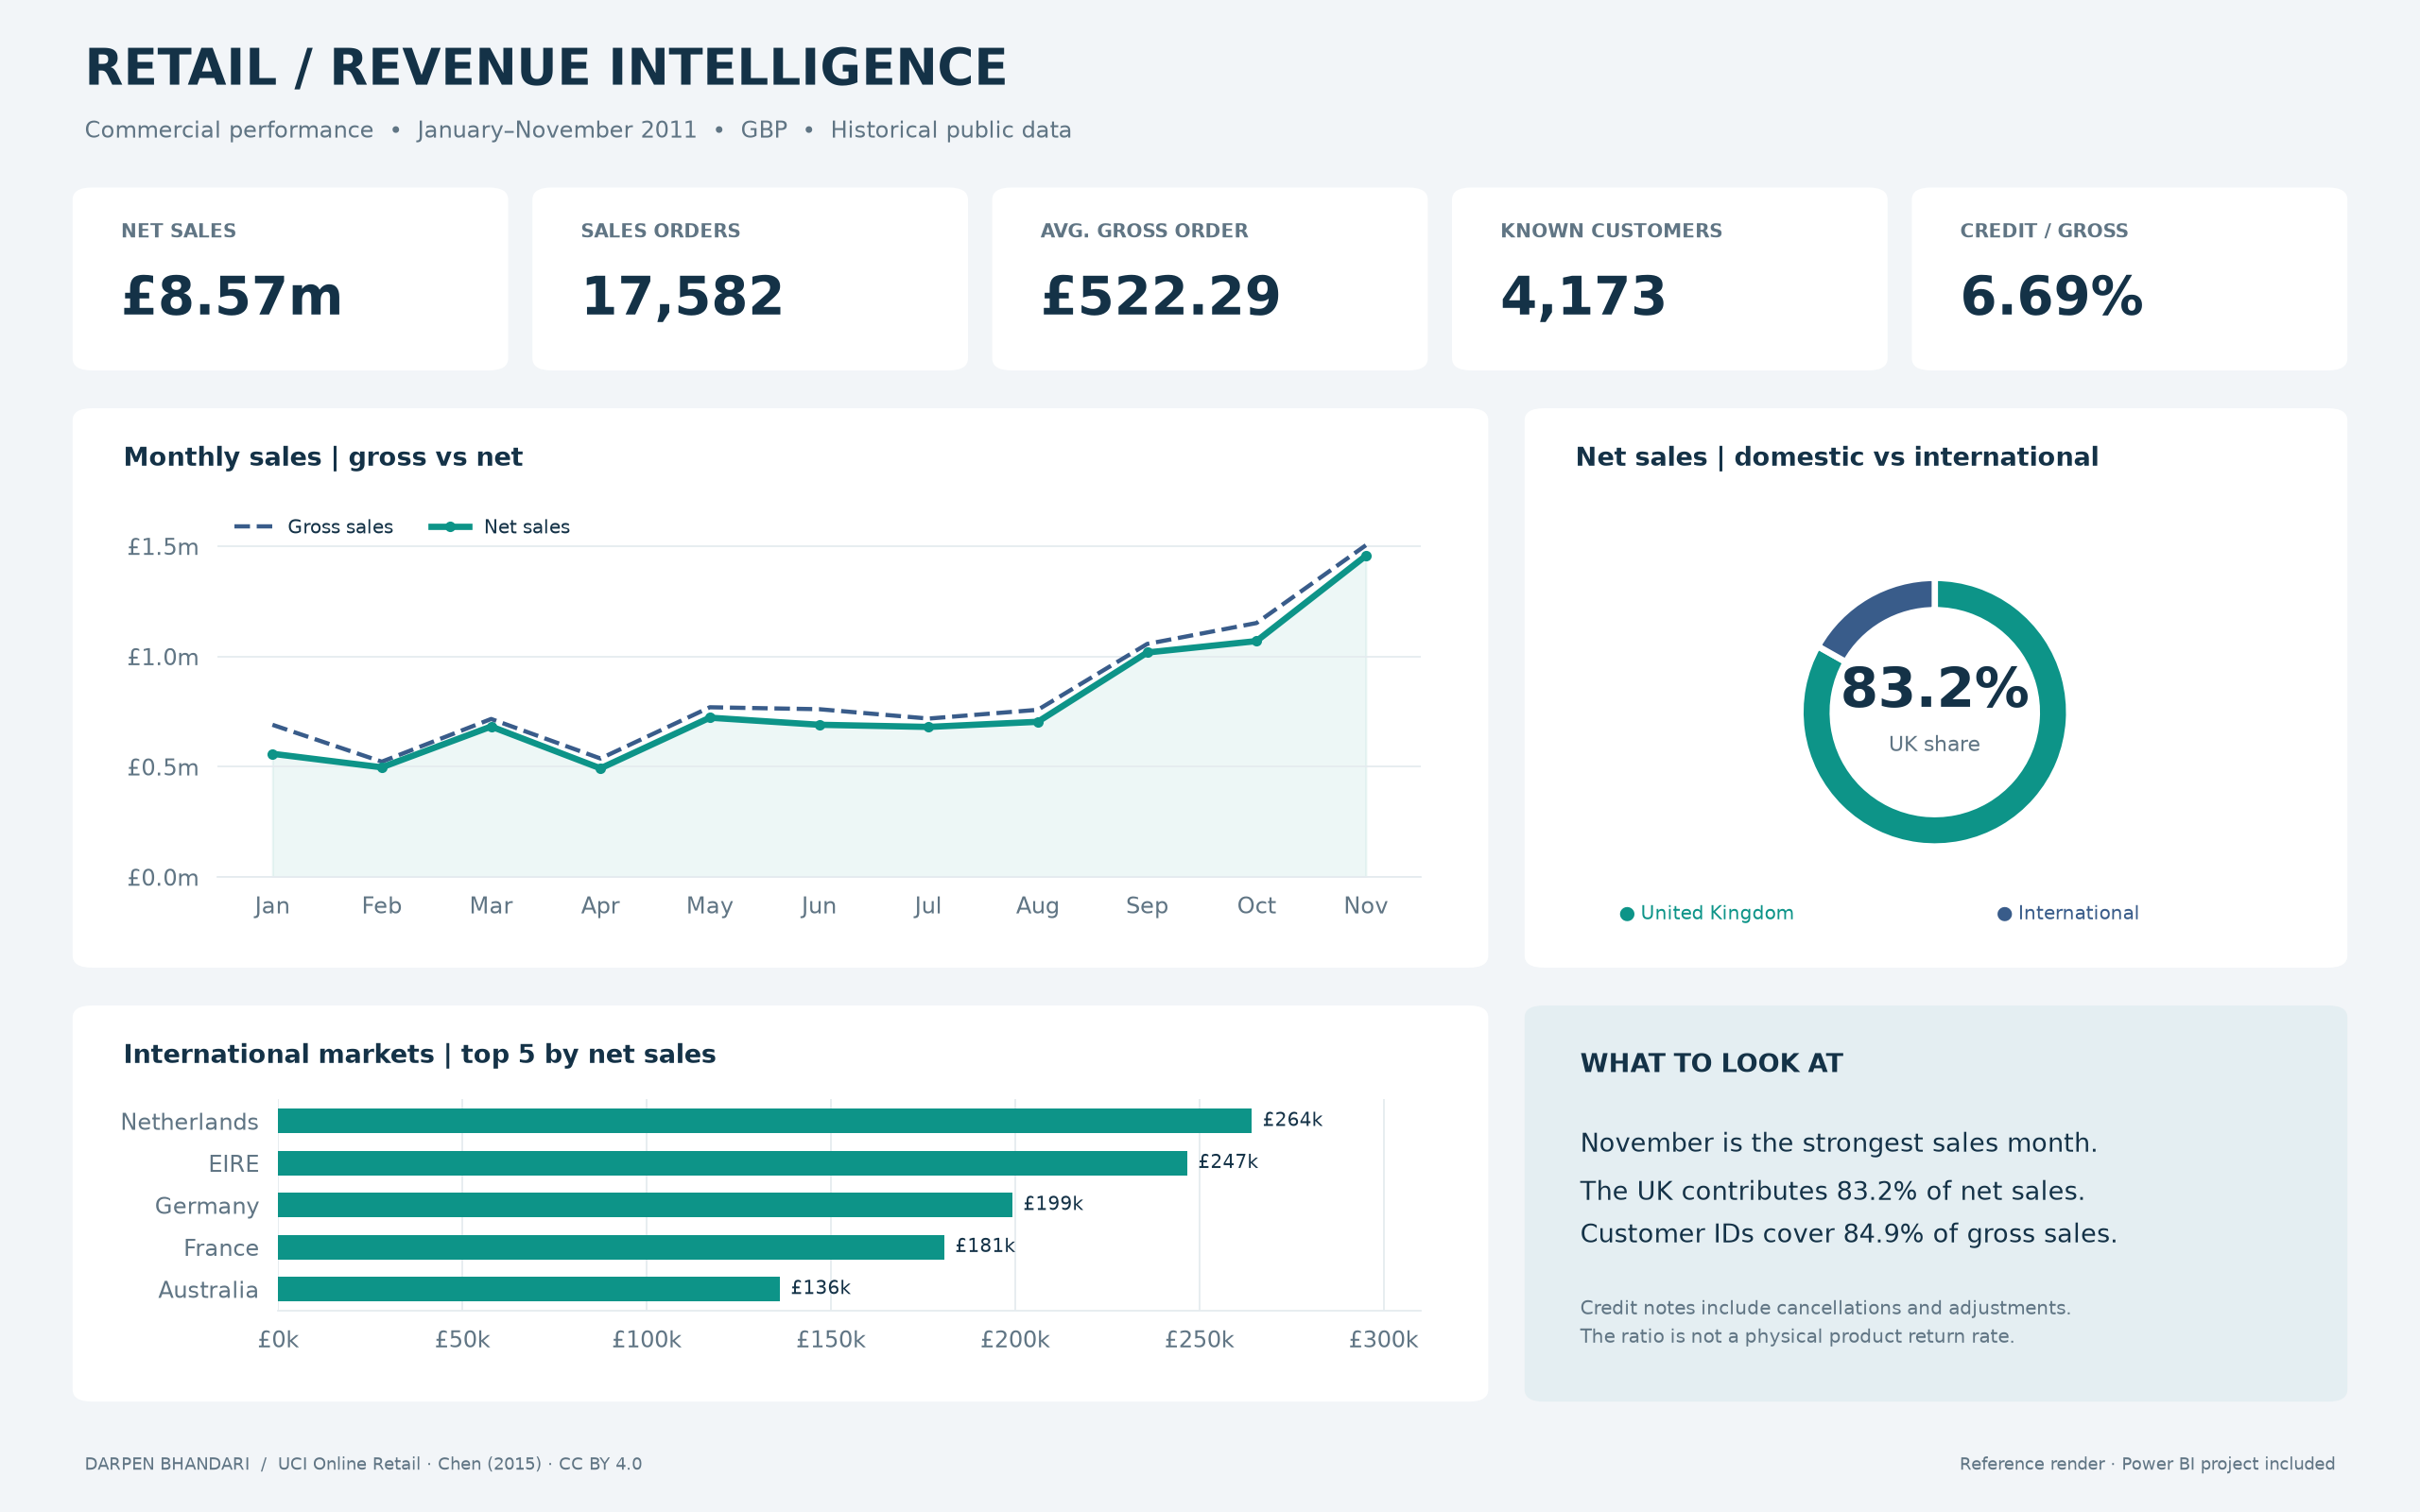

What the dashboard file says about the page in this screenshot:
{"tool":"powerbi","page":{"name":"01 · Revenue overview","canvas":[1440,900],"ordinal":0},"visuals":[{"type":"textbox","box":[32,22,1100,65],"z":1},{"type":"textbox","box":[32,70,1180,43],"z":2},{"type":"textbox","box":[32,850,1370,46],"z":3},{"type":"card","fields":{"Values":["FactSales.Net Sales Display"]},"box":[32,118,256,105],"z":7},{"type":"textbox","box":[44,123,232,40],"z":8},{"type":"card","fields":{"Values":["FactSales.Orders Display"]},"box":[312,118,256,105],"z":9},{"type":"textbox","box":[324,123,232,40],"z":10},{"type":"card","fields":{"Values":["FactSales.Average Order Value Display"]},"box":[592,118,256,105],"z":11},{"type":"textbox","box":[604,123,232,40],"z":12},{"type":"card","fields":{"Values":["FactSales.Known Customers Display"]},"box":[872,118,256,105],"z":13},{"type":"textbox","box":[884,123,232,40],"z":14},{"type":"card","fields":{"Values":["FactSales.Credit Value Ratio Display"]},"box":[1152,118,256,105],"z":15},{"type":"textbox","box":[1164,123,232,40],"z":16},{"type":"lineChart","title":"Monthly sales | gross vs net","fields":{"Category":["DimDate.Month"],"Y":["FactSales.Gross Sales","FactSales.Net Sales"]},"box":[32,246,830,332],"z":17},{"type":"donutChart","title":"Net sales | UK vs international","fields":{"Category":["DimCountry.Market"],"Y":["FactSales.Net Sales"]},"box":[886,246,522,332],"z":18},{"type":"clusteredBarChart","title":"International markets | net sales","fields":{"Category":["DimCountry.Country"],"Y":["FactSales.Net Sales"]},"box":[32,600,650,228],"z":19},{"type":"slicer","title":"Filter by month","fields":{"Values":["DimDate.MonthName"]},"box":[708,600,338,228],"z":20},{"type":"textbox","box":[1070,600,338,228],"z":21}]}

Visuals, with their boxes in screenshot pixels (x1, y1, x2, y2), scaled from the page's 1440x900 canvas onto the 2420x1512 screenshot:
textbox: 54/37/1902/146
textbox: 54/117/2037/190
textbox: 54/1428/2356/1505
card - FactSales.Net Sales Display: 54/198/484/374
textbox: 74/207/464/274
card - FactSales.Orders Display: 525/198/955/374
textbox: 544/207/934/274
card - FactSales.Average Order Value Display: 994/198/1426/374
textbox: 1015/207/1405/274
card - FactSales.Known Customers Display: 1465/198/1895/374
textbox: 1486/207/1875/274
card - FactSales.Credit Value Ratio Display: 1936/198/2366/374
textbox: 1956/207/2346/274
"Monthly sales | gross vs net" lineChart: 54/413/1448/971
"Net sales | UK vs international" donutChart: 1489/413/2366/971
"International markets | net sales" clusteredBarChart: 54/1008/1146/1391
"Filter by month" slicer: 1190/1008/1758/1391
textbox: 1798/1008/2366/1391
